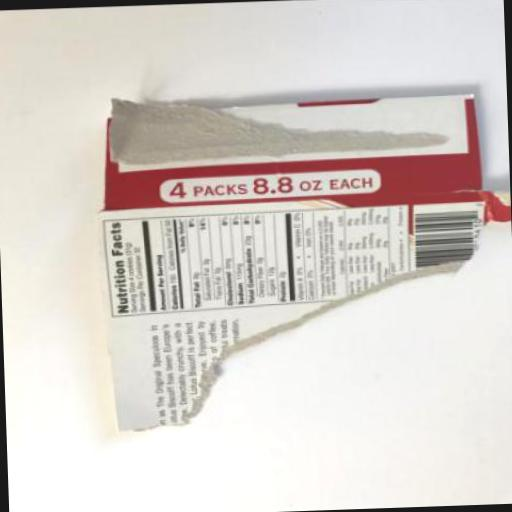cardboard: (90, 85, 512, 434)
paper: (91, 84, 512, 431)
